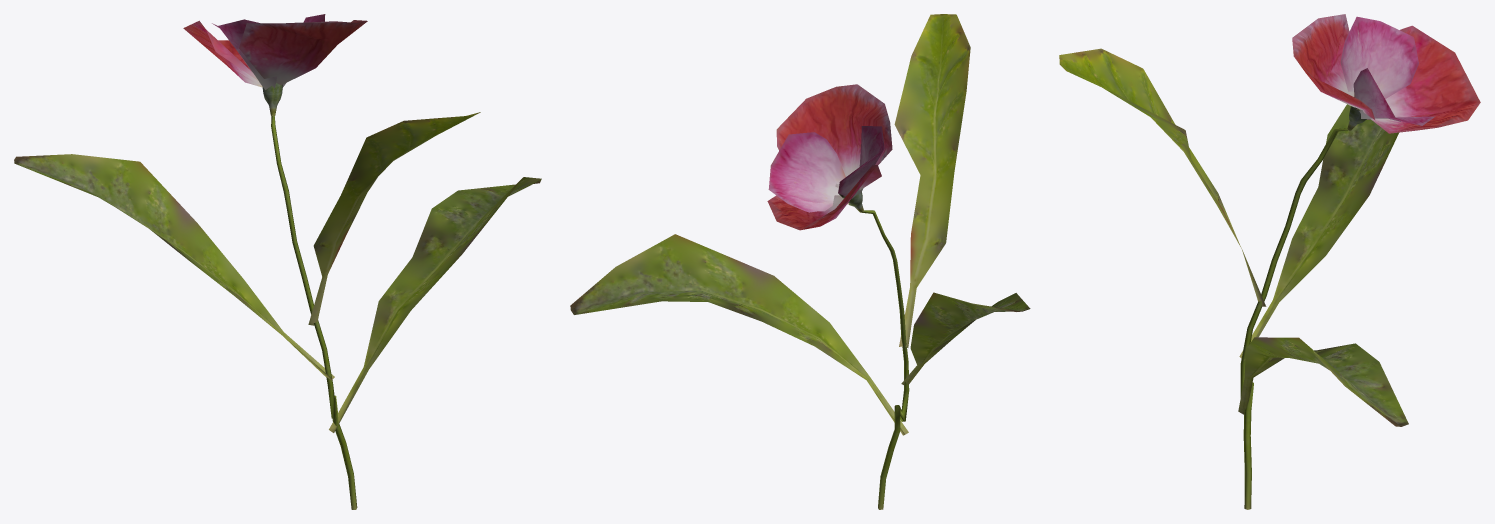
Rendered from Poppy_baby_short_red.glb.
3 renders of one model, left to right at view 1: azimuth 30°, elevation 25°; view 2: azimuth 150°, elevation 25°; view 3: azimuth 270°, elevation 25°, orthographic. The views are drawn at different scales.
Parts seen in each view (by area): view 1: baby poppy; view 2: baby poppy; view 3: baby poppy.
Part boxes in pixels (bbox=[...]): baby poppy: bbox=[14, 14, 541, 509]; baby poppy: bbox=[570, 14, 1030, 509]; baby poppy: bbox=[1059, 14, 1480, 509].
Size of the model in its own units: 1.32 by 1.17 by 0.9442.
1 material, 1 textured.
